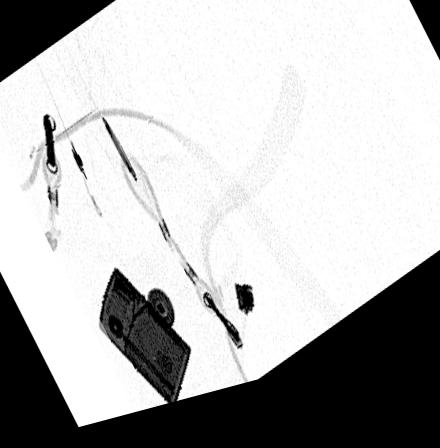Lighter: (99, 269, 192, 412)
